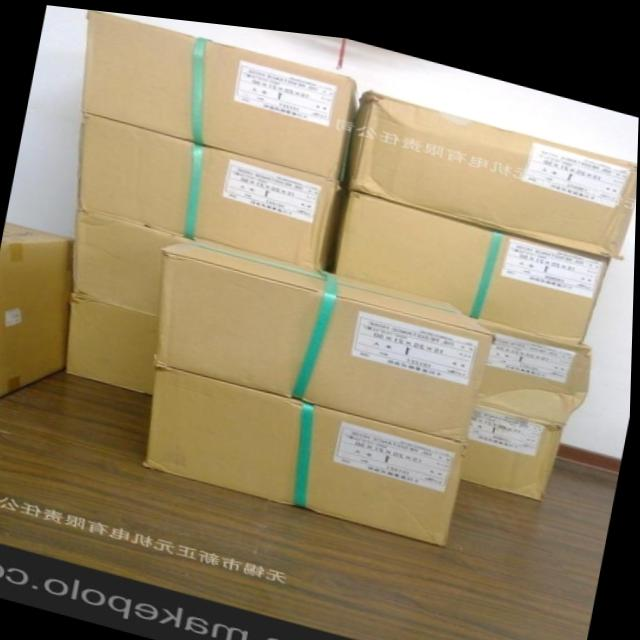box: (158, 235, 500, 428), (148, 359, 468, 537), (349, 84, 638, 248), (84, 8, 359, 173), (337, 181, 612, 332), (80, 110, 344, 263), (451, 300, 594, 414), (0, 222, 75, 397), (72, 208, 177, 309), (464, 394, 566, 491)
